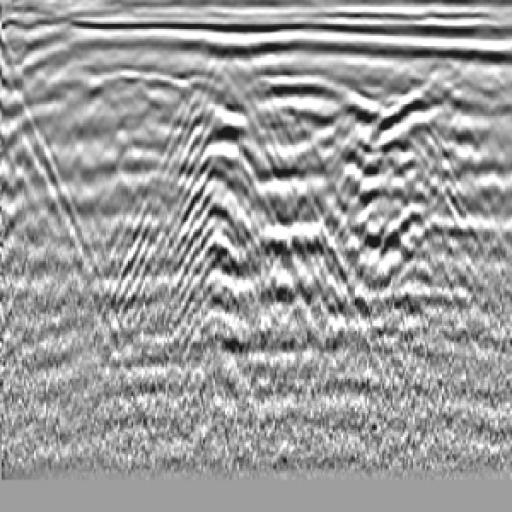metalic: (113, 59, 276, 154)
